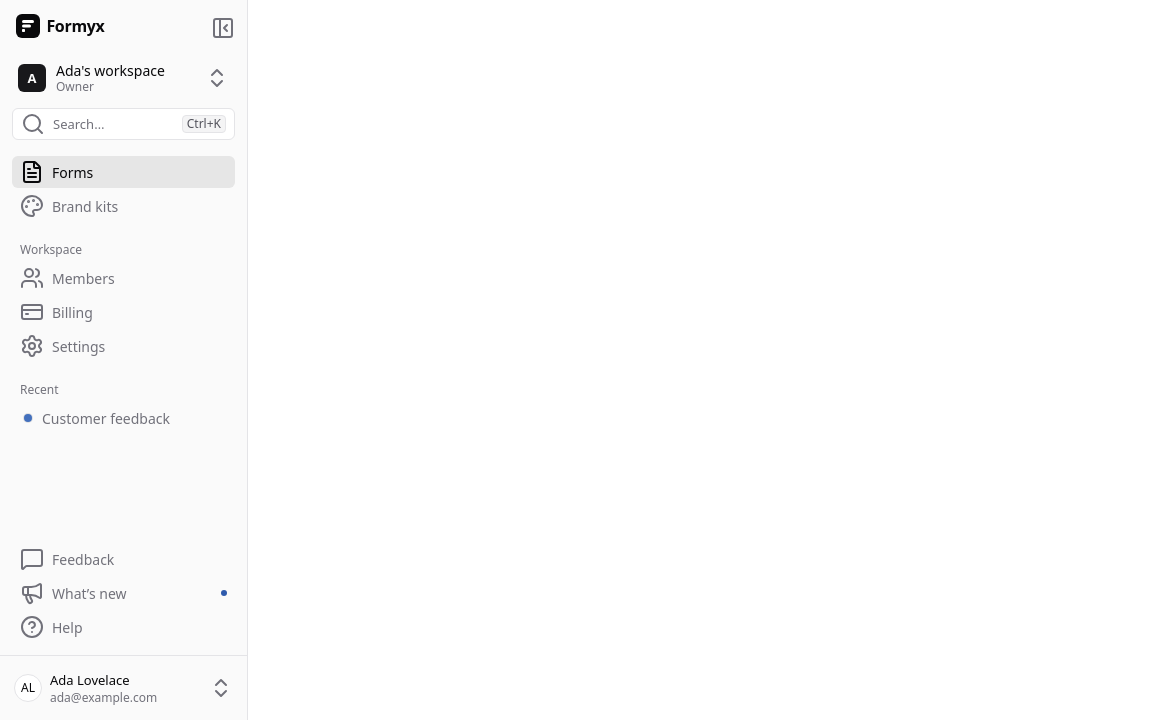
Test: CommandPalette › finds things from a loose search, or by their other words
Type keys "{Control>}k{/Control}"
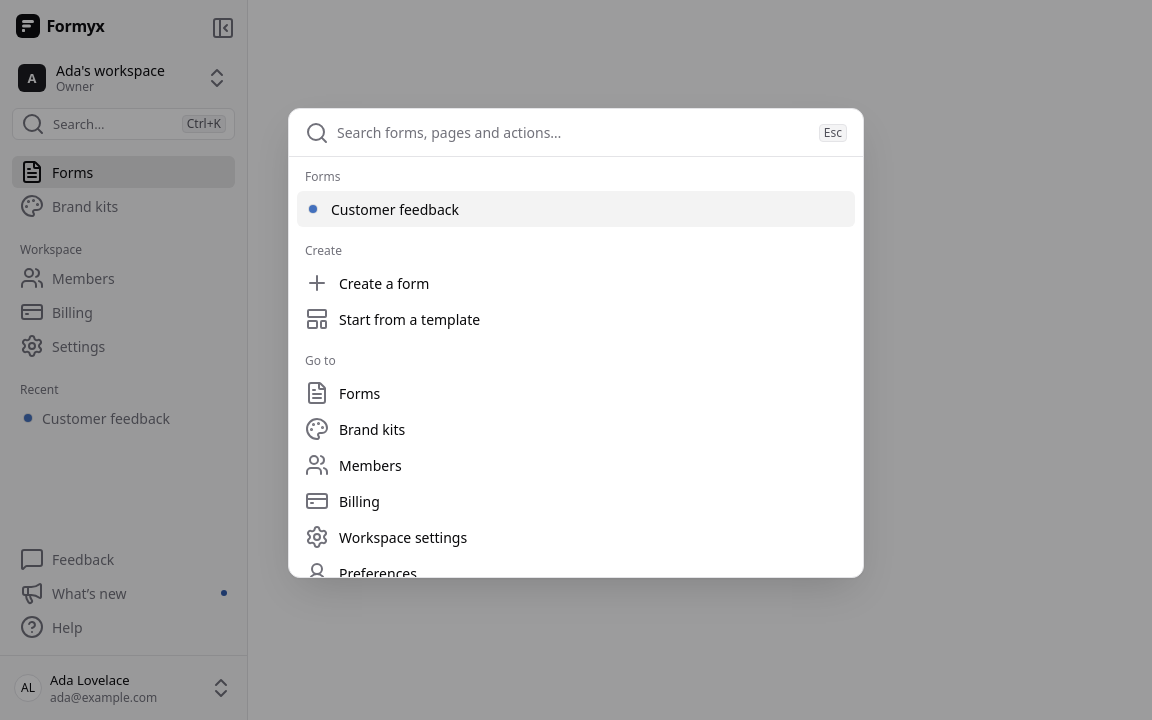
expect the option "Customer feedback" is shown: met, box [297,191,855,227]
Type keys "membrs"
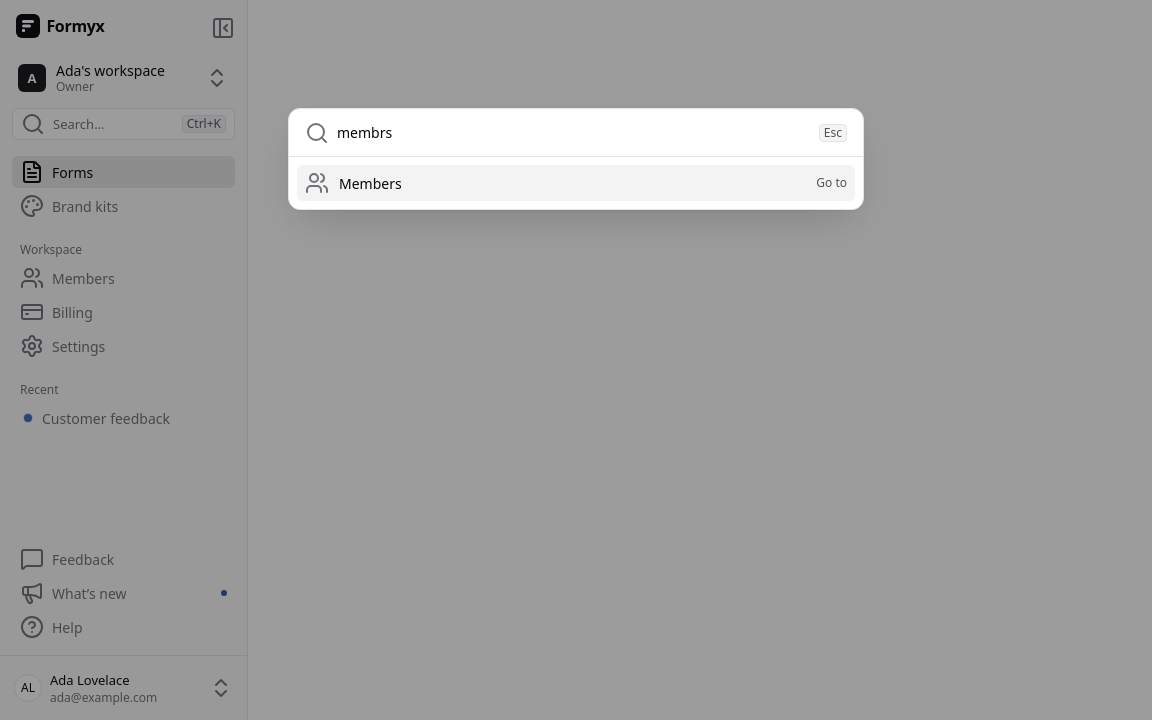
expect the option reads "Members Go to": met, box [297,165,855,201]
Clear the dropdown at (574, 132), box [337,109,811,156]
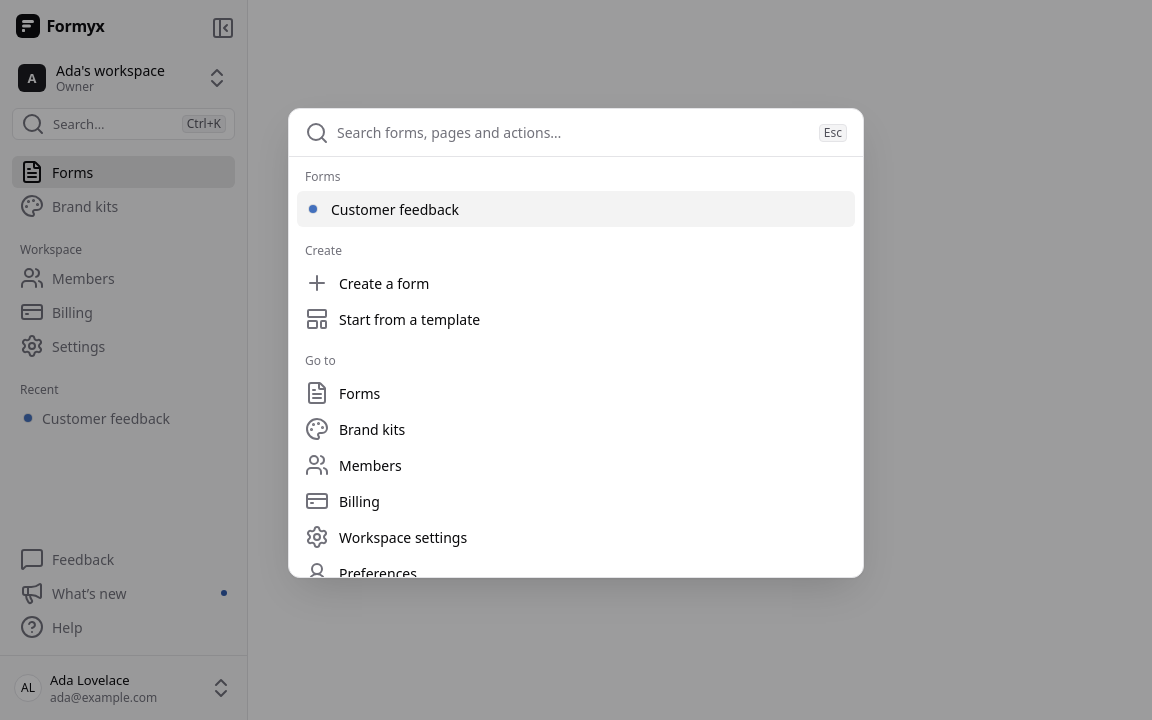
Type keys "upgrade"
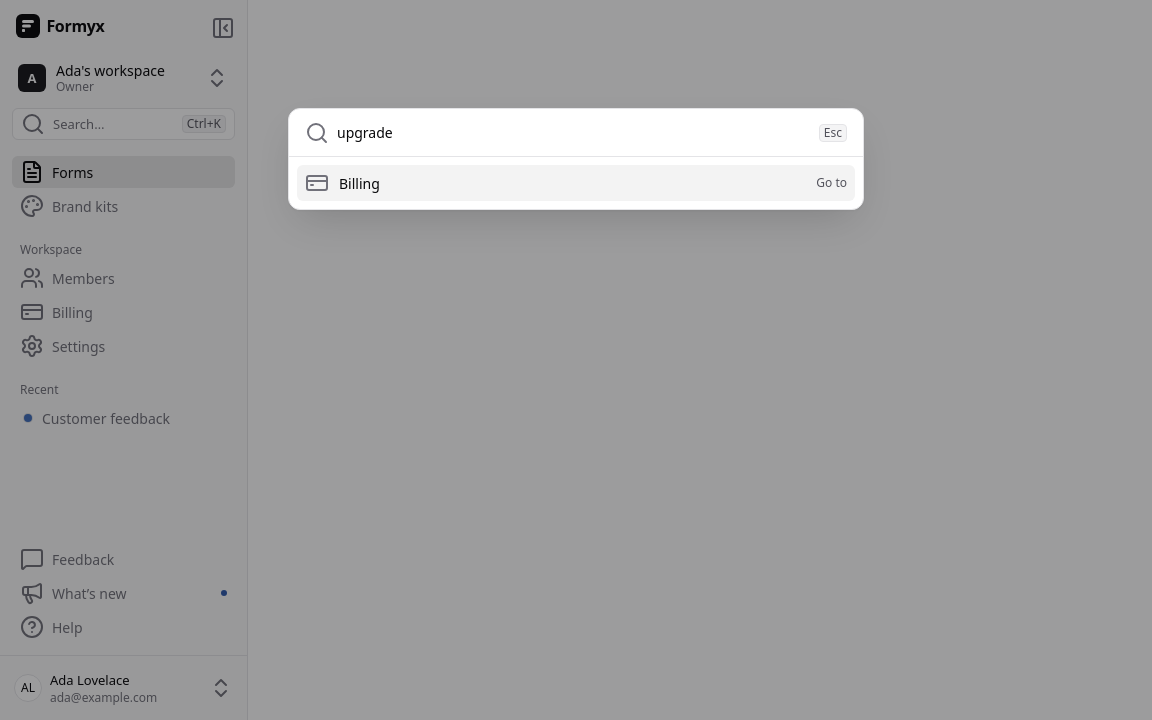
expect the option reads "Billing Go to": met, box [297,165,855,201]
Clear the dropdown at (574, 132), box [337,109,811,156]
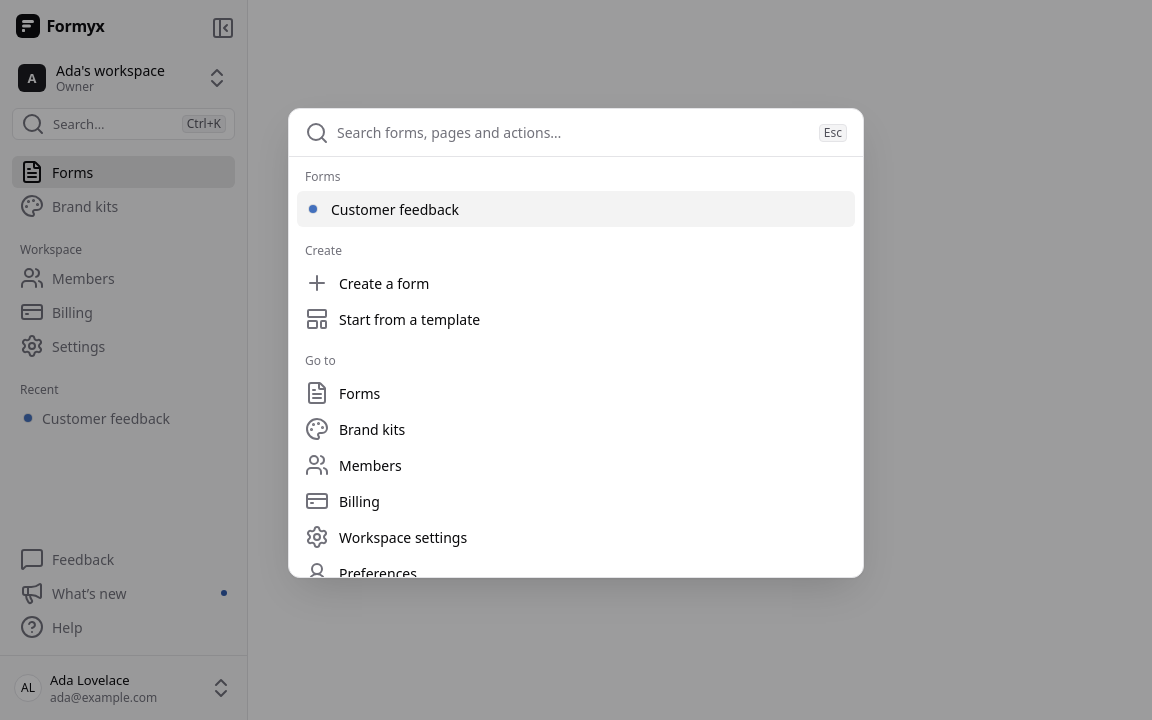
Type keys "qqqq"
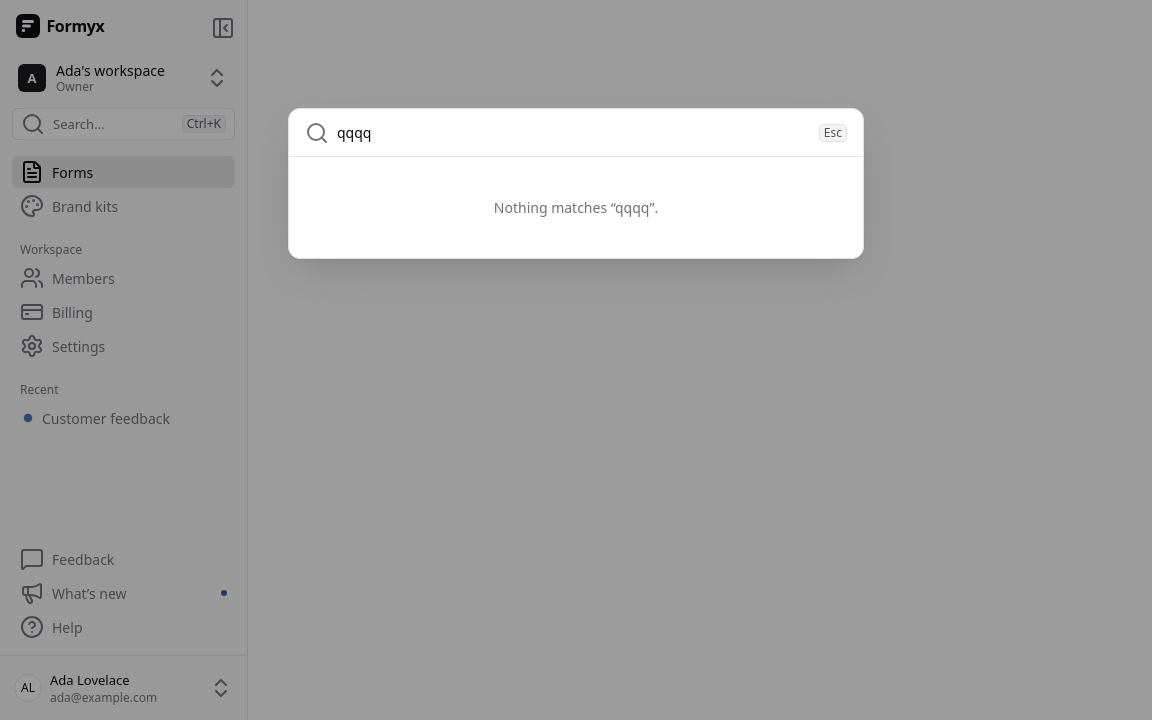
expect no options are shown: met
expect the text "Nothing matches “qqqq”." is shown: met, box [494,198,658,217]
